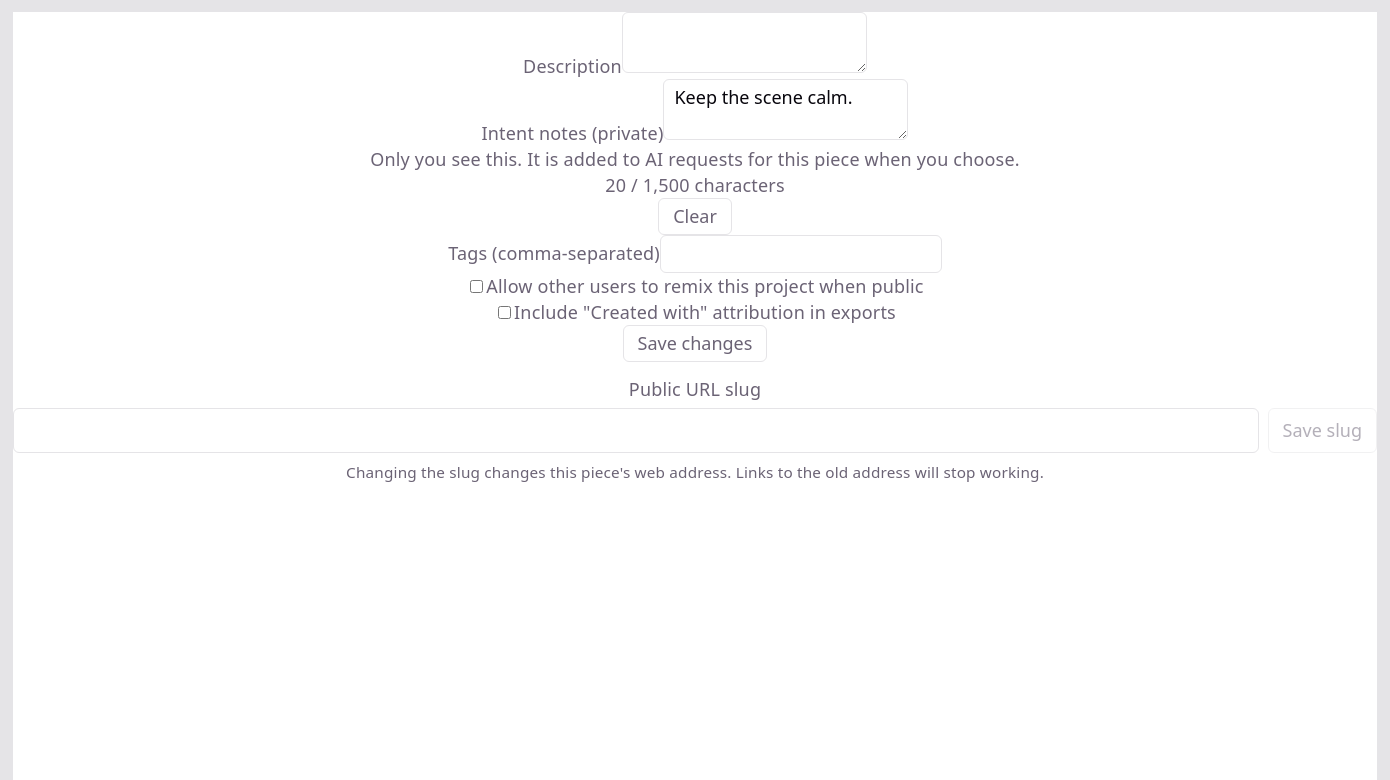
it: EditorDetailsPanel › shows the private intent note, its guidance and live count, and clears it
Expected: the text box labelled "Intent notes (private)" holds "Keep the scene calm.", [664,79,908,140]
Click the button with aria-label "clear intent notes" at (695, 217), box [658,198,732,235]
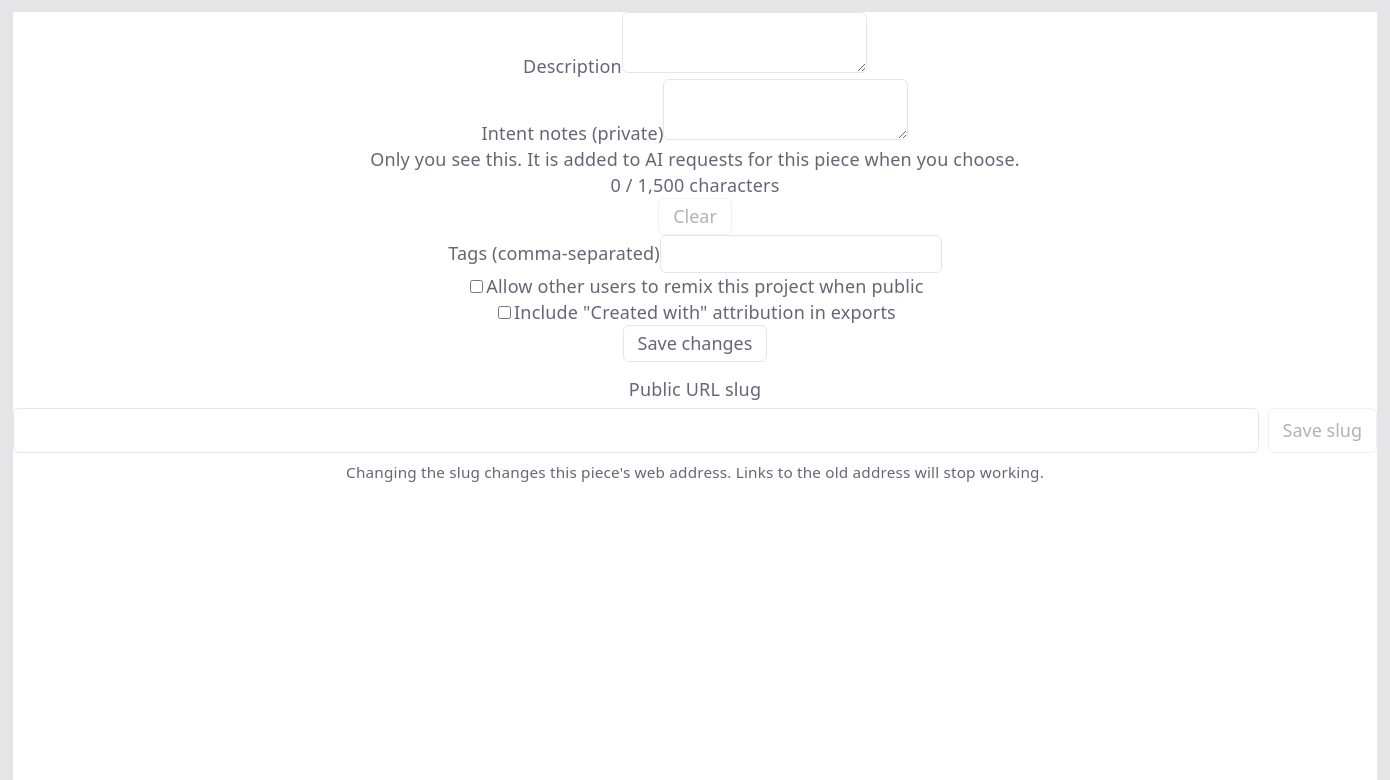
Expected: the text "0 / 1,500 characters" is shown, [610,173,780,197]
Result: the text box labelled "Intent notes (private)" is empty at [664,79,908,140]
